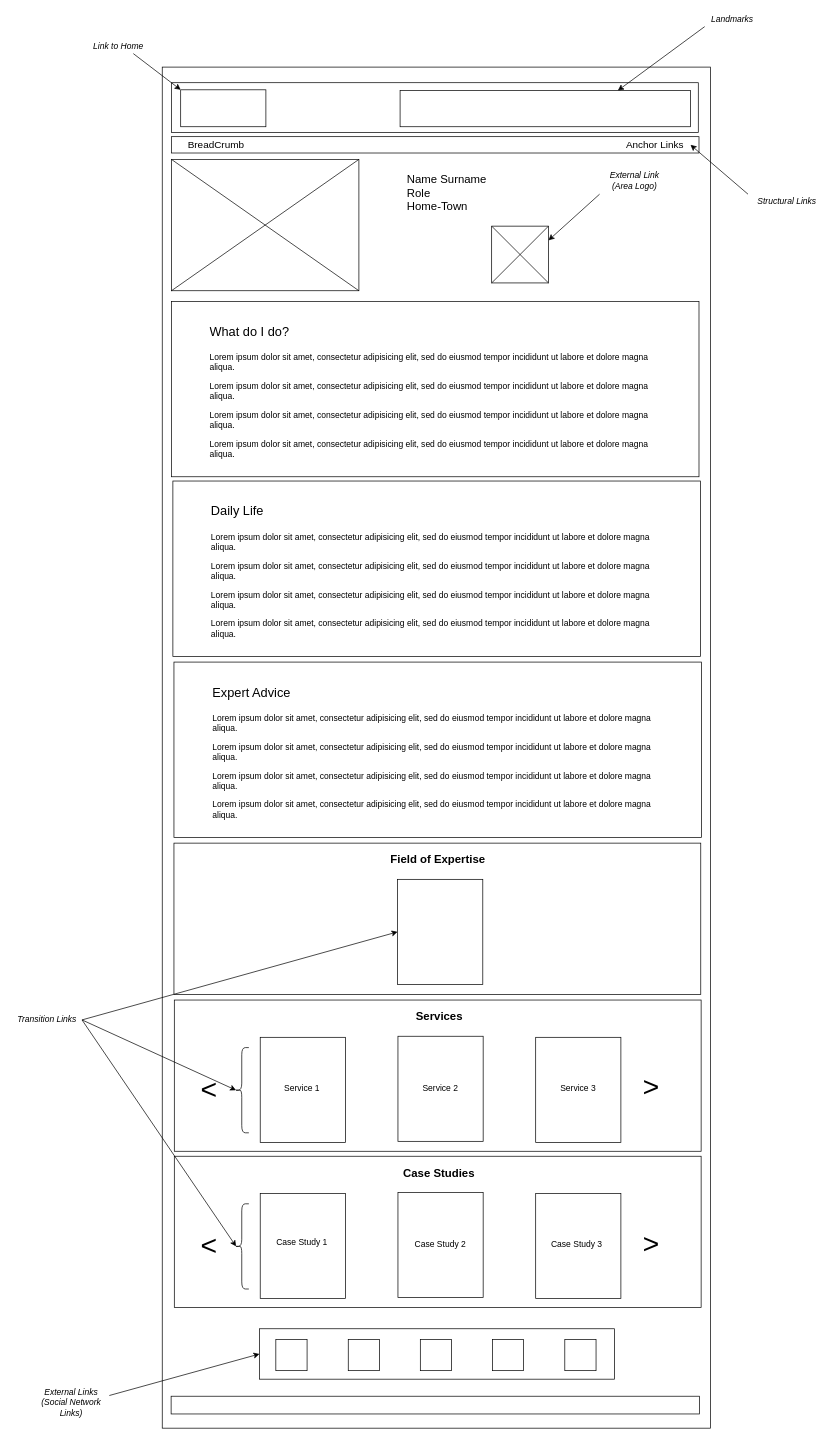
Image size: 838x1441. Some labels were removed from this diagram. The shapes that lost their labels are listed below. From the top down, each one's box as (x1, y1, x2, y2) in pixels, then its label:
(180, 89, 266, 127): LOGO
(399, 90, 690, 127): About Us Areas Services Industries Our Team Contact Us
(171, 159, 359, 291): Profile Image
(397, 879, 483, 984): Area
(170, 1396, 699, 1414): Footer
